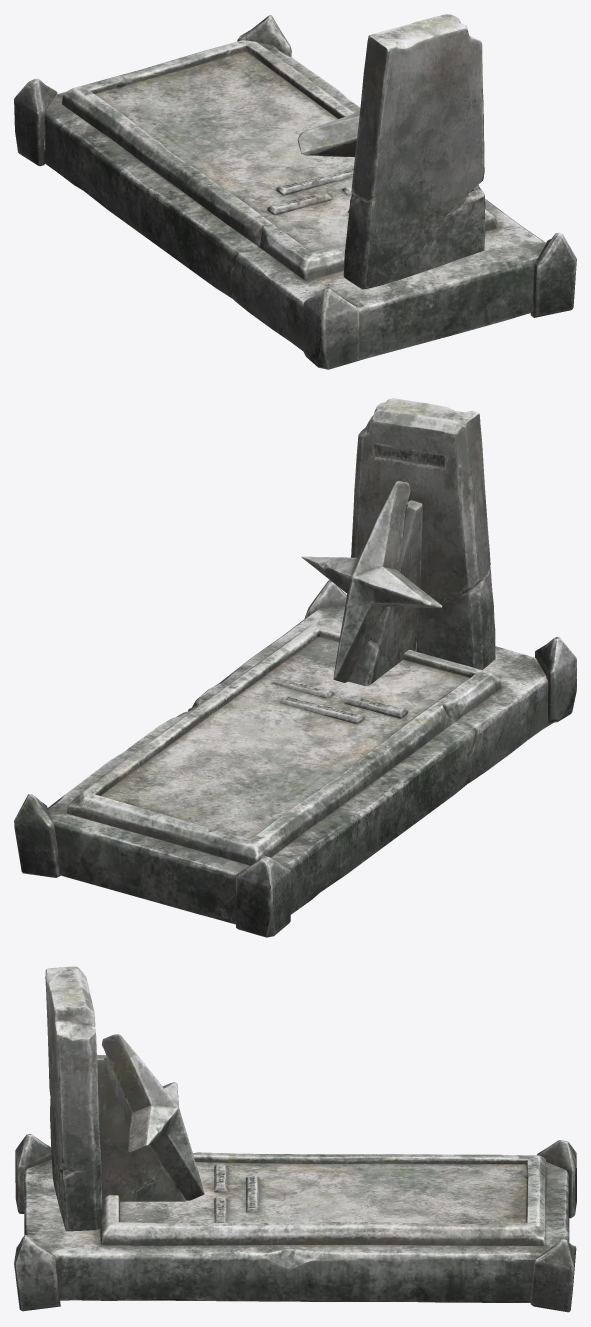
3 renders of one model, top to bottom at view 1: azimuth 30°, elevation 25°; view 2: azimuth 150°, elevation 25°; view 3: azimuth 270°, elevation 25°, orthographic. The views are drawn at different scales.
Visible parts, largest first — view 1: SM_Human_Gravestone_01v3_LOD0; view 2: SM_Human_Gravestone_01v3_LOD0; view 3: SM_Human_Gravestone_01v3_LOD0.
Part boxes in pixels (x1,y1,x2,y2): SM_Human_Gravestone_01v3_LOD0: (14,14,576,369); SM_Human_Gravestone_01v3_LOD0: (14,398,576,937); SM_Human_Gravestone_01v3_LOD0: (14,966,576,1312).
Bounding box in the file's own units: 1.76 × 1.92 × 3.61.
Materials: 2 (2 with a texture image).
